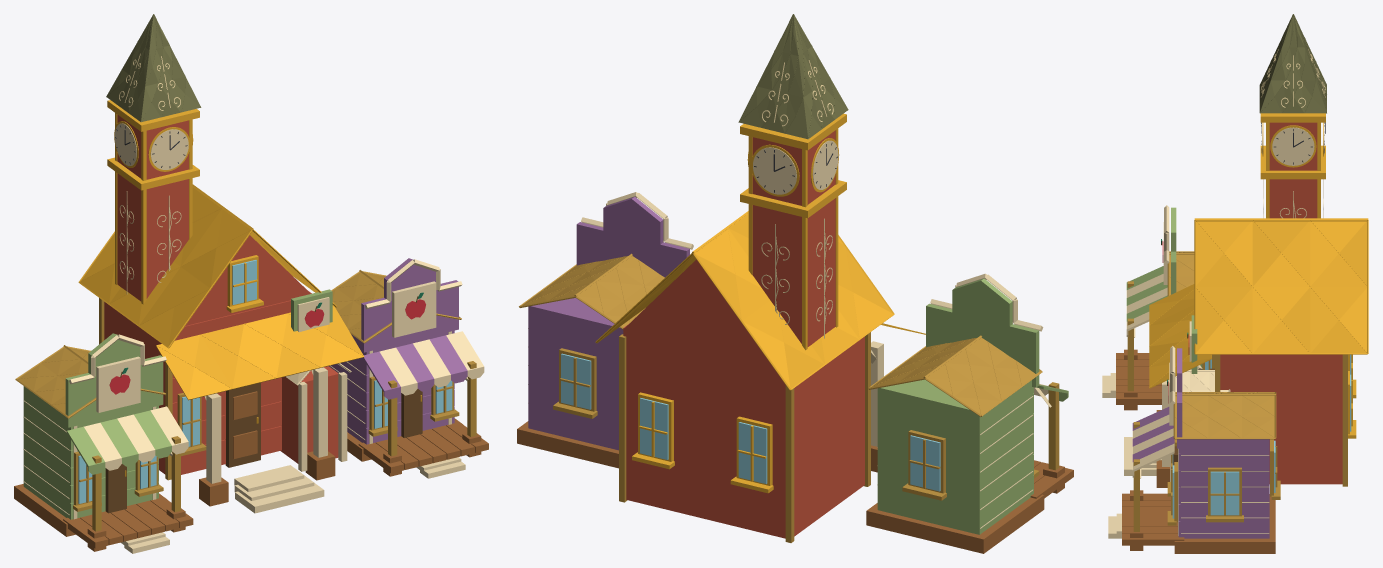
File: building.glb
3 views of the same model, side by side, from view 1: azimuth 30°, elevation 25°; view 2: azimuth 150°, elevation 25°; view 3: azimuth 270°, elevation 25° (orthographic). The views are drawn at different scales.
Parts seen in each view (by area): view 1: Building_Appleloosa_TownAndClock; view 2: Building_Appleloosa_TownAndClock; view 3: Building_Appleloosa_TownAndClock.
Part boxes in pixels (left/top/right/bottom): Building_Appleloosa_TownAndClock: left=14, top=14, right=488, bottom=553; Building_Appleloosa_TownAndClock: left=517, top=14, right=1073, bottom=553; Building_Appleloosa_TownAndClock: left=1102, top=14, right=1368, bottom=553.
Bounding box in the file's own units: 1.51 × 1.57 × 0.8953.
